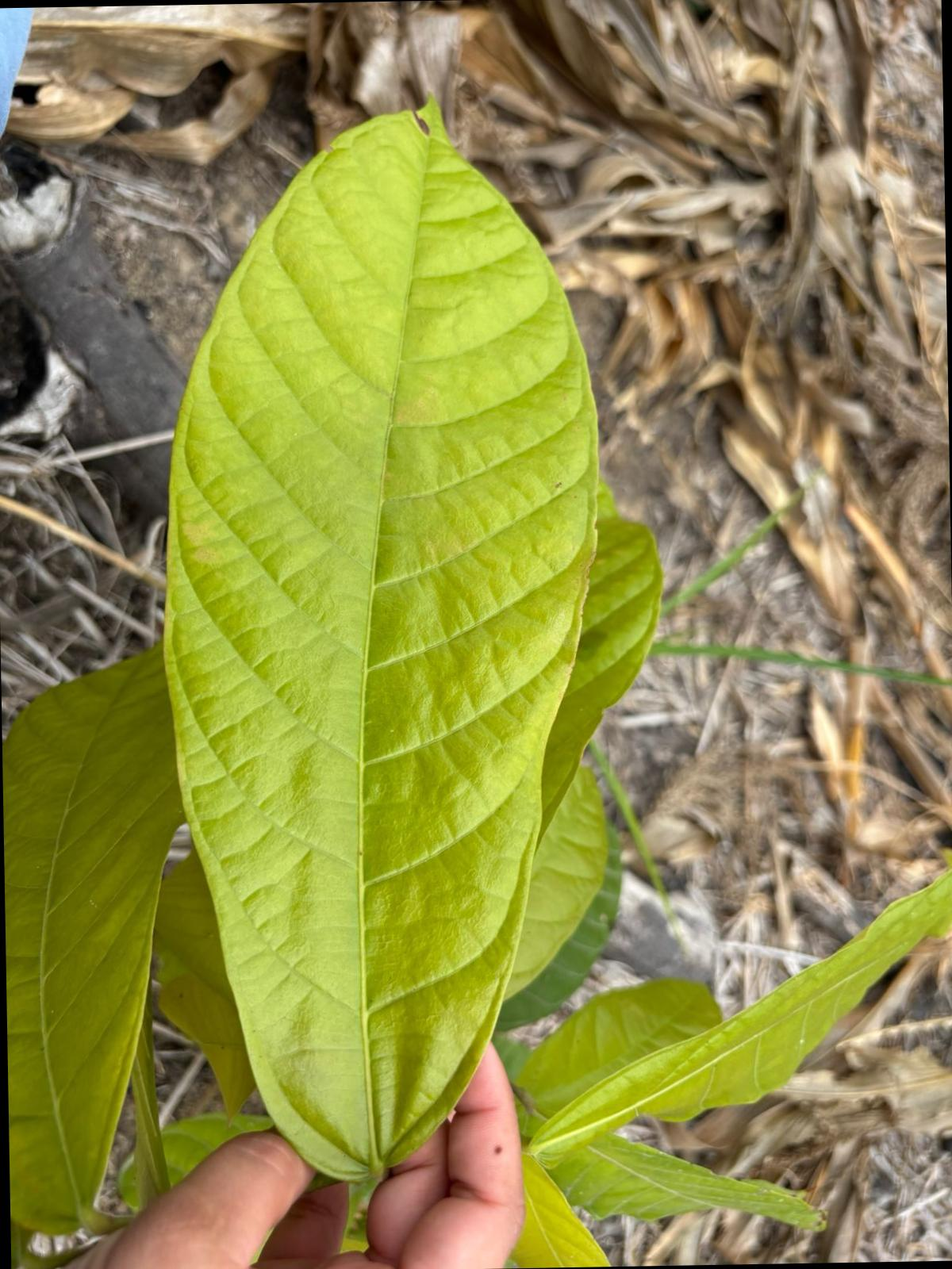Nitrogeno: (165, 105, 595, 1178)
